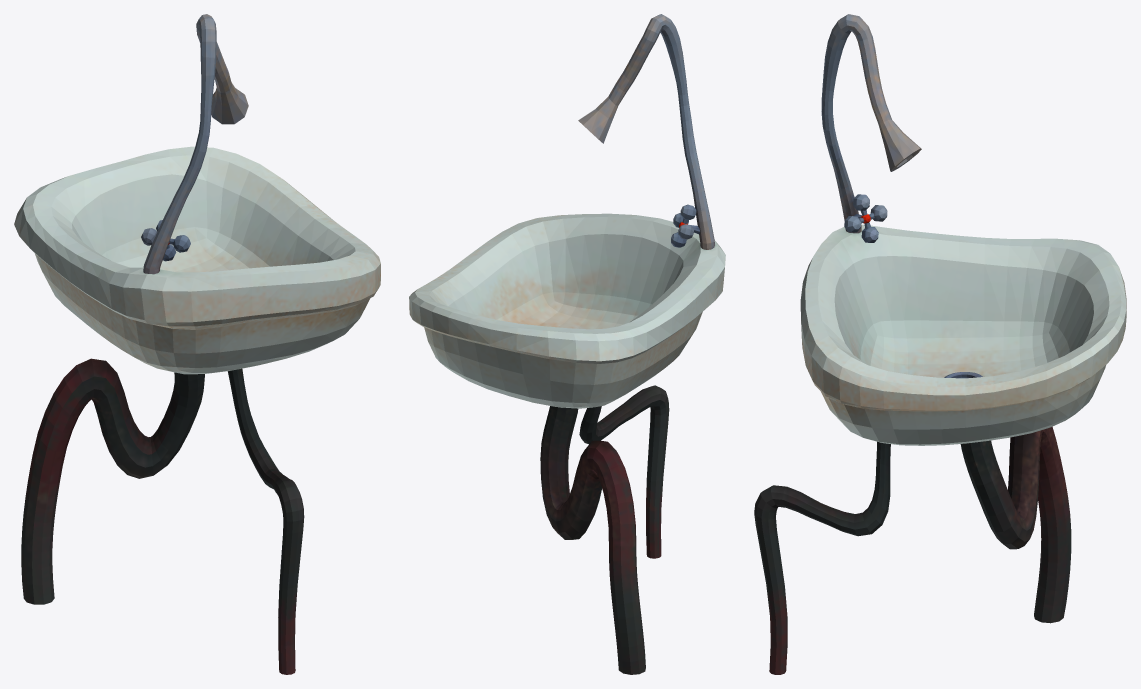
The model's file is sink.fbx.
The picture shows the model from 3 angles, left to right: view 1: azimuth 30°, elevation 25°; view 2: azimuth 150°, elevation 25°; view 3: azimuth 270°, elevation 25°; orthographic projection. The views are drawn at different scales.
Visible parts, largest first — view 1: sink_2.mo_sink_2_Inst_0; view 2: sink_2.mo_sink_2_Inst_0; view 3: sink_2.mo_sink_2_Inst_0.
Boxes of the visible parts, x1,y1,x2,y2 form: sink_2.mo_sink_2_Inst_0: (14,14,380,674); sink_2.mo_sink_2_Inst_0: (409,14,725,674); sink_2.mo_sink_2_Inst_0: (754,14,1126,674).
Size of the model in its own units: 6883 by 15713 by 8355.
1 material, 1 textured.
